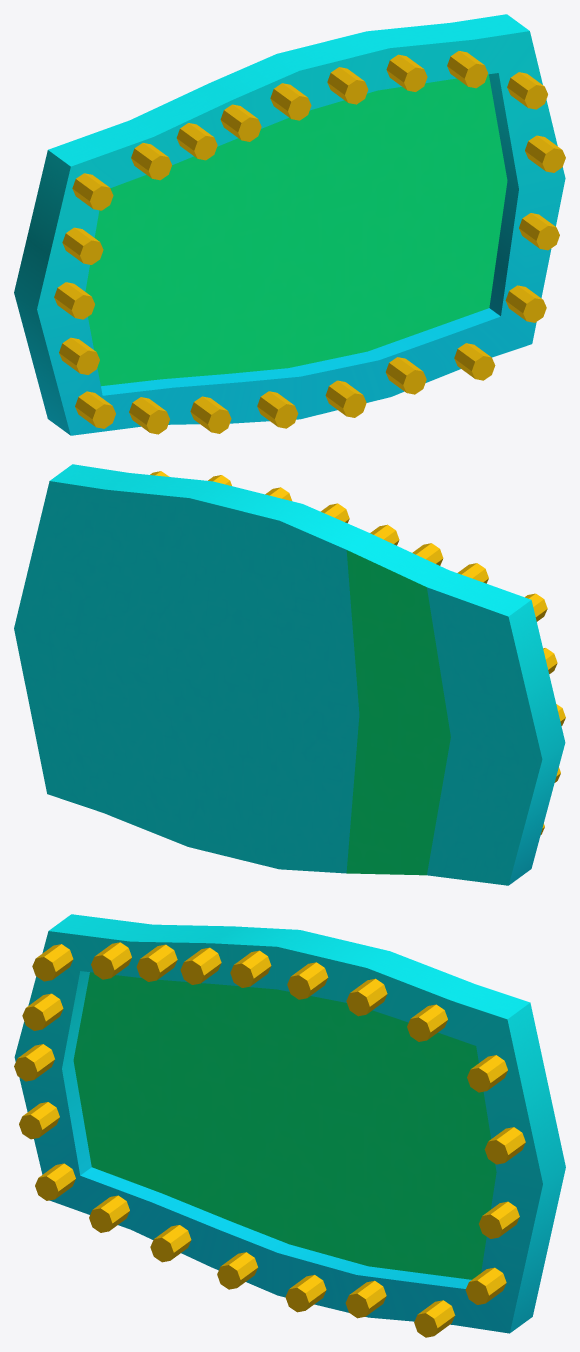
Rendered from r3-screen.fbx.
3 views of the same model, one above another, from view 1: azimuth 30°, elevation 25°; view 2: azimuth 150°, elevation 25°; view 3: azimuth 330°, elevation 25° (orthographic).
Parts seen in each view (by area): view 1: pCube2; view 2: pCube2; view 3: pCube2.
Boxes of the visible parts, left/top/right/bottom form: pCube2: left=14, top=14, right=565, bottom=435; pCube2: left=14, top=464, right=565, bottom=885; pCube2: left=14, top=914, right=565, bottom=1337.
Bounding box in the file's own units: 83.16 × 52.53 × 11.07.
